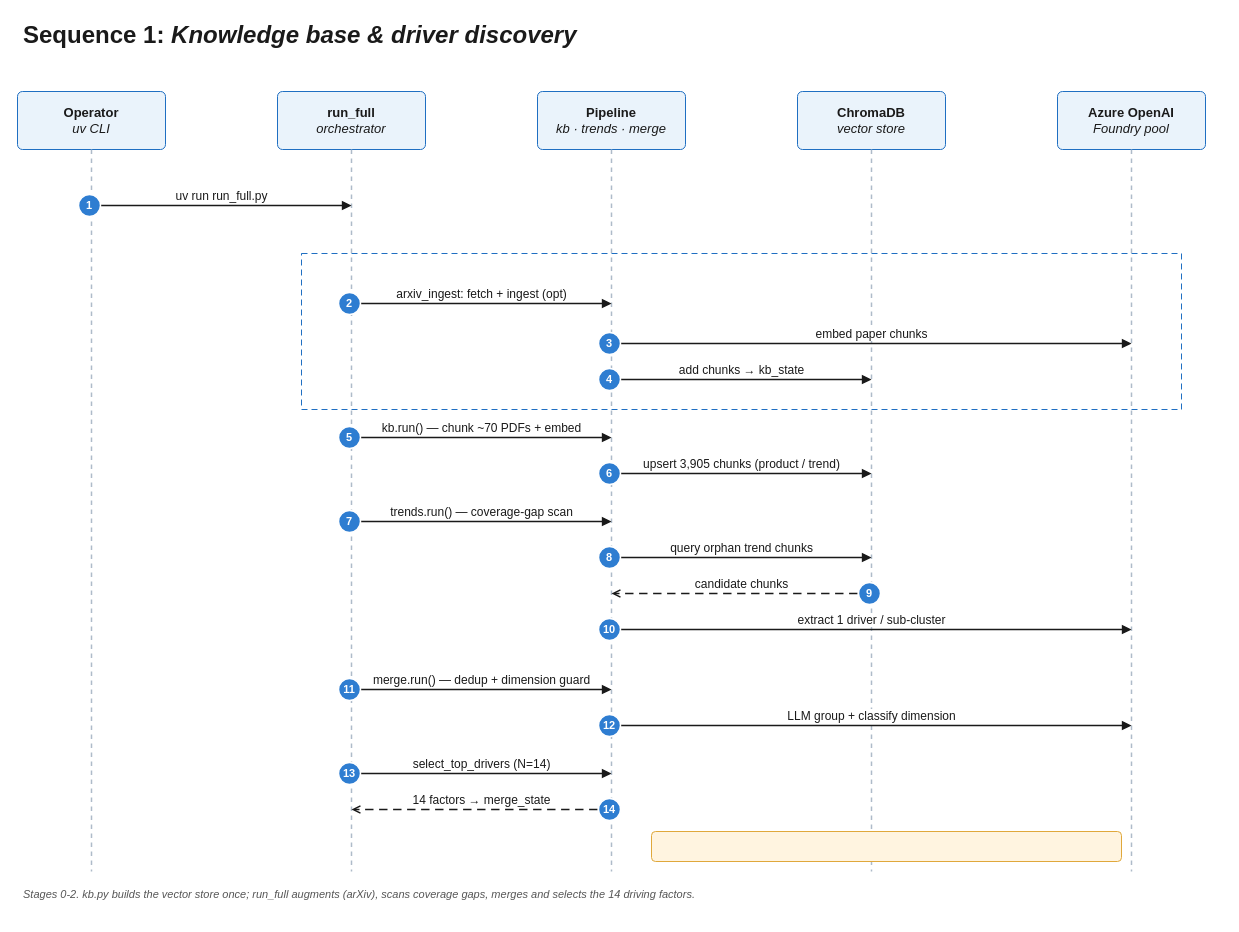
Image size: 1239x932. Some labels were removed from this diagram. The shapes that lost their labels are listed below. From the top down, each one's box as (x1, y1, x2, y2) in pixels, then its label:
(300, 252, 1182, 410): opt · arXiv augmentation (--skip-arxiv)
(650, 830, 1122, 862): evidence-weighted select · 0.5·origin + 0.5·evidence_depth
